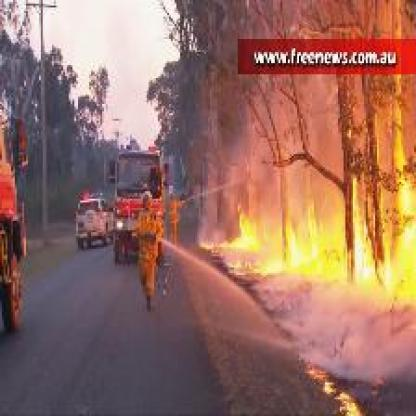fire: (205, 185, 412, 310)
other: (132, 205, 164, 307), (166, 191, 184, 250)
